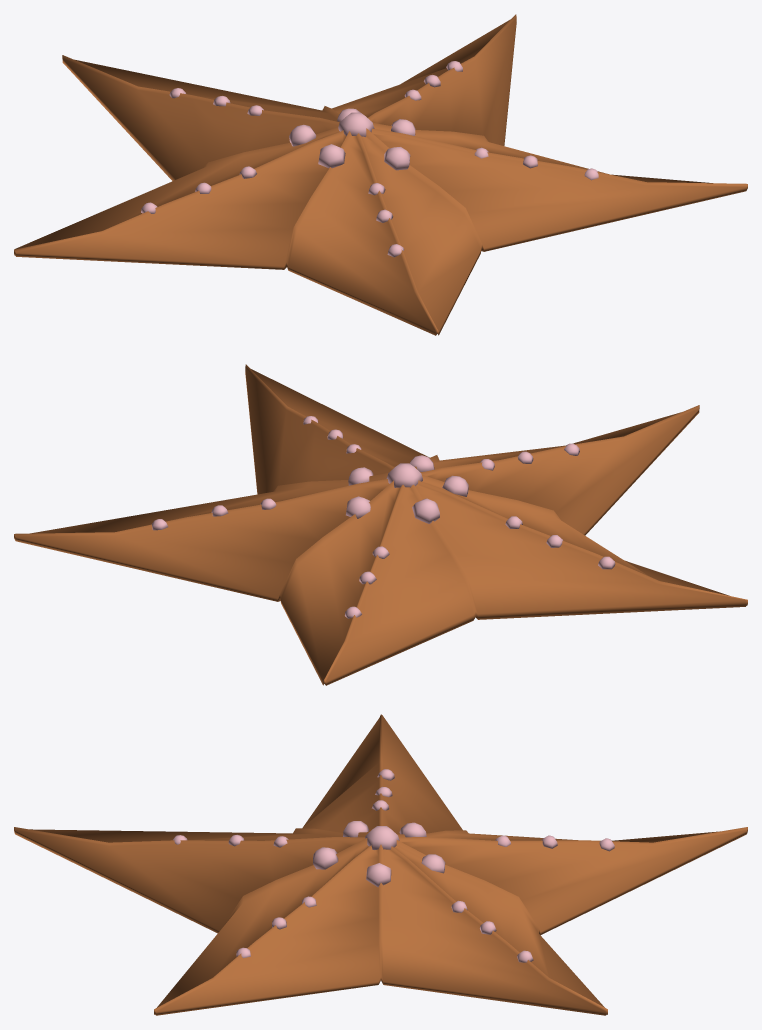
The model's file is Seestern.gltf.
3 renders of one model, top to bottom at view 1: azimuth 30°, elevation 25°; view 2: azimuth 150°, elevation 25°; view 3: azimuth 270°, elevation 25°, orthographic. The views are drawn at different scales.
Parts seen in each view (by area): view 1: Sphere; view 2: Sphere; view 3: Sphere.
Part boxes in pixels (bbox=[...]): Sphere: bbox=[14, 14, 747, 335]; Sphere: bbox=[14, 364, 747, 685]; Sphere: bbox=[14, 714, 747, 1015].
Bounding box in the file's own units: 1.06 × 0.148 × 1.12.
